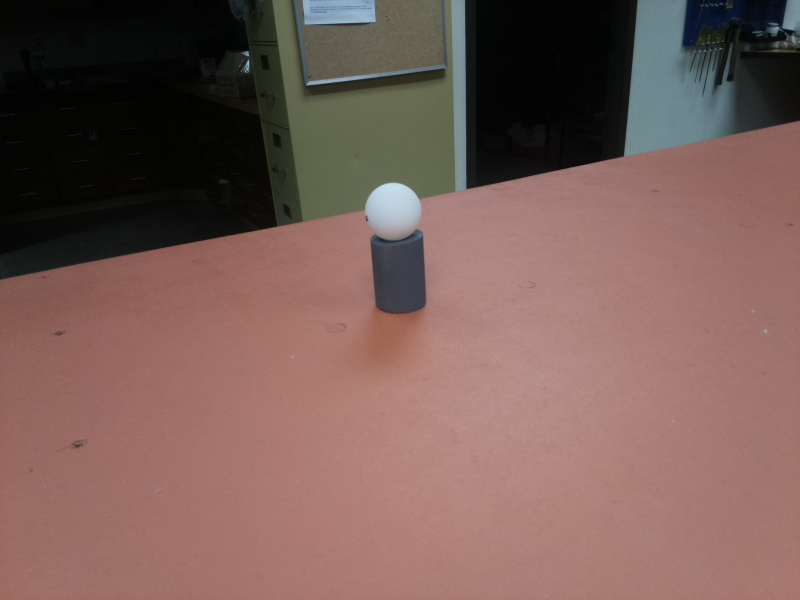obstacle: (357, 182, 435, 314)
